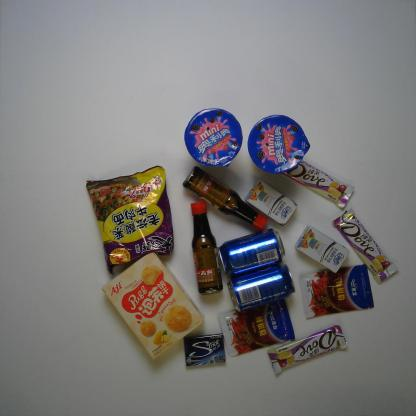Chocolate: (331, 206, 398, 285), (266, 324, 349, 374), (284, 160, 356, 209)
Dessert: (100, 252, 206, 360), (247, 114, 311, 175), (183, 108, 243, 168)
Drink: (226, 264, 297, 314), (216, 226, 286, 276)
Gum: (183, 332, 226, 367)
Instant Noodles: (84, 164, 176, 277)
Milk: (294, 224, 350, 274), (244, 178, 298, 227)
Seasoner: (181, 165, 268, 232), (217, 298, 296, 358), (298, 264, 375, 320), (189, 200, 224, 297)
